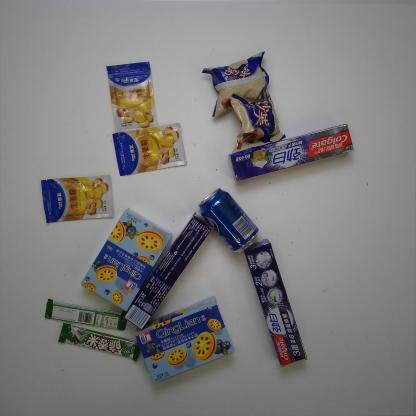Chocolate: (57, 323, 141, 362), (43, 298, 126, 330)
Dessert: (80, 207, 173, 312), (135, 295, 235, 384), (201, 51, 270, 118), (230, 93, 286, 153)
Drink: (198, 187, 260, 253)
Personal Hygiene: (123, 212, 212, 330), (243, 238, 308, 368), (228, 123, 354, 182)
Seasoner: (112, 123, 187, 176), (106, 62, 158, 134), (41, 175, 113, 224)
